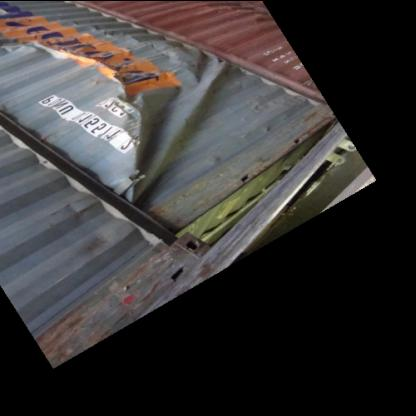Damage: (121, 85, 202, 197), (7, 12, 138, 78), (178, 46, 228, 100)
